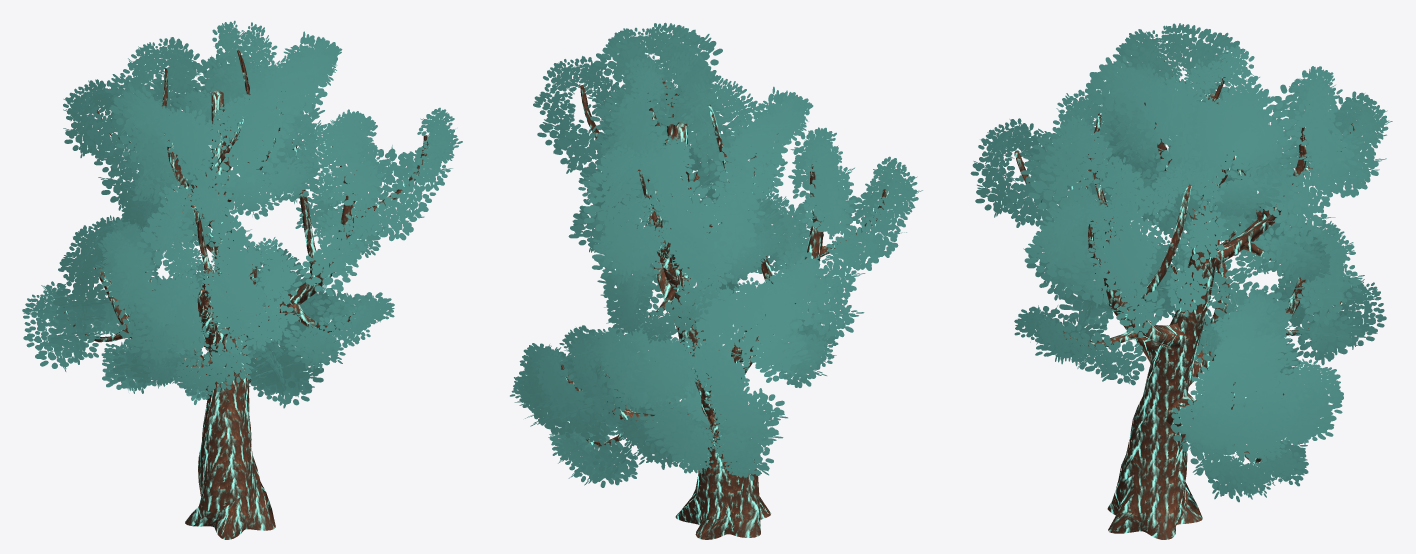
The model's file is dtree_twisted_3.glb.
3 views of the same model, side by side, from view 1: azimuth 30°, elevation 25°; view 2: azimuth 150°, elevation 25°; view 3: azimuth 270°, elevation 25° (orthographic). The views are drawn at different scales.
Parts seen in each view (by area): view 1: model; view 2: model; view 3: model.
Boxes of the visible parts, x1,y1,x2,y2 form: model: (22, 20, 462, 539); model: (510, 22, 922, 539); model: (970, 23, 1392, 539).
Size of the model in its own units: 6.33 by 8.02 by 6.41.
Materials: 2 (2 with a texture image).
